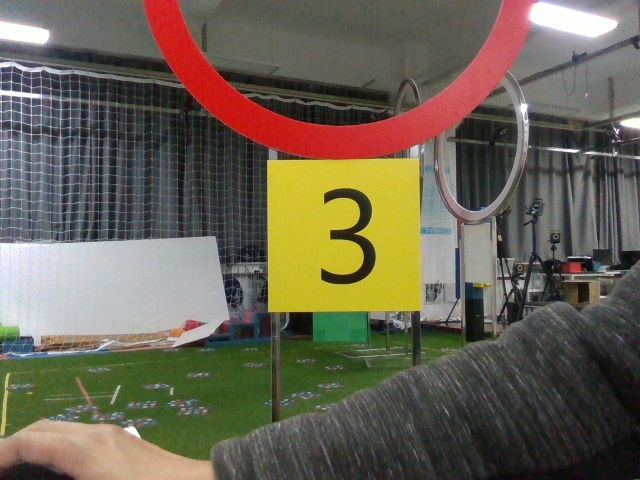target: (270, 162, 422, 310)
